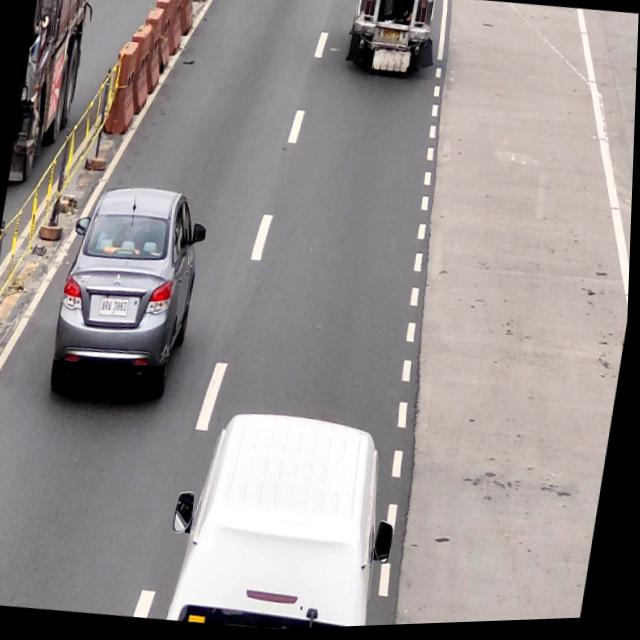Car: (46, 173, 211, 412)
Jeep: (342, 0, 437, 87)
License-Plate: (99, 293, 133, 321)
